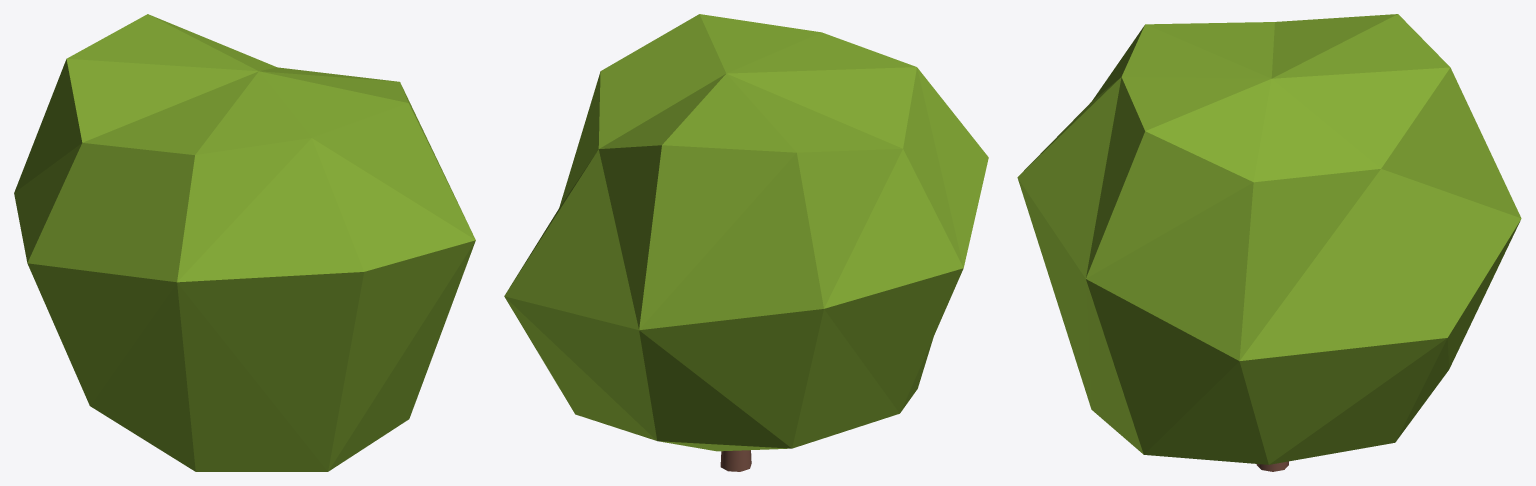
Rendered from bush1.fbx.
The picture shows the model from 3 angles, left to right: view 1: azimuth 30°, elevation 25°; view 2: azimuth 150°, elevation 25°; view 3: azimuth 270°, elevation 25°; orthographic projection. The views are drawn at different scales.
Parts seen in each view (by area): view 1: sptp_bush_01; view 2: sptp_bush_01; view 3: sptp_bush_01.
Part boxes in pixels (x1,y1,x2,y2): sptp_bush_01: (14, 14, 475, 471); sptp_bush_01: (504, 14, 988, 471); sptp_bush_01: (1017, 14, 1521, 471).
Size of the model in its own units: 85.58 by 75.74 by 88.4.
1 material, 1 textured.
